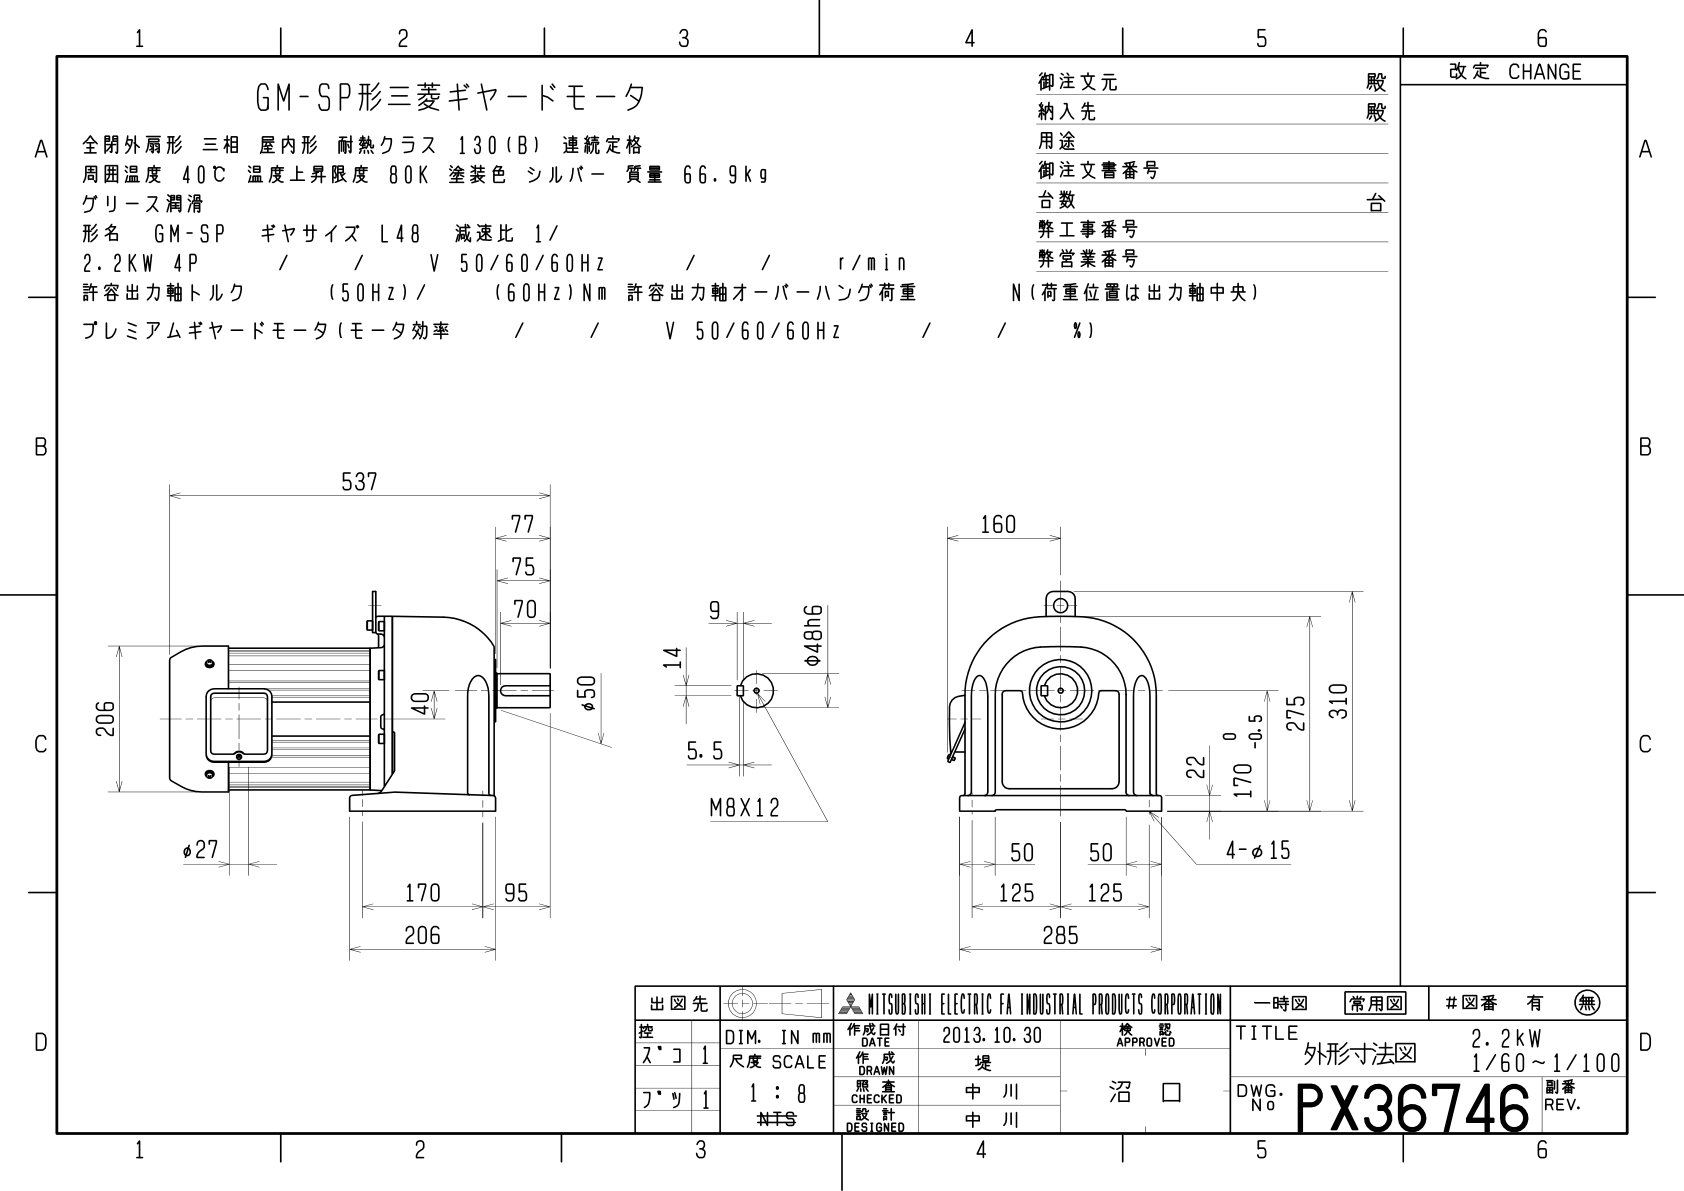GM_SP_屋内_三相_脚: (77, 437, 1373, 967)
